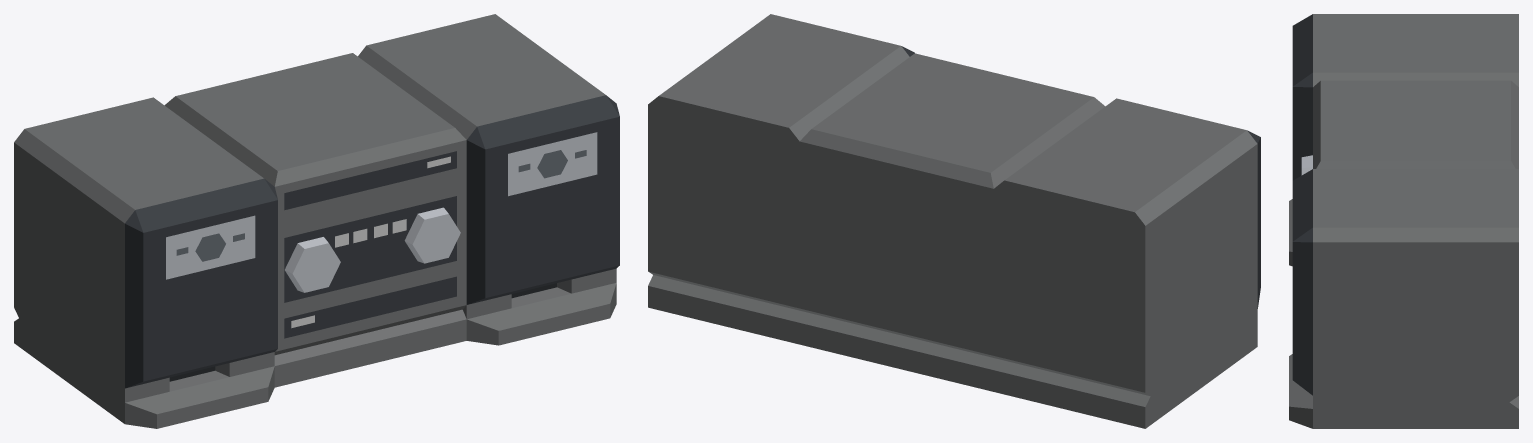
The model's file is SM_Prop_Radio_02-test.obj.
The picture shows the model from 3 angles, left to right: view 1: azimuth 30°, elevation 25°; view 2: azimuth 150°, elevation 25°; view 3: azimuth 270°, elevation 25°; orthographic projection. The views are drawn at different scales.
Visible parts, largest first — view 1: SM_Prop_Radio_02-test_Mat_SwatchOverlay_PolygonOffice_01_Metal_I, SM_Prop_Radio_02-test_M_BigRadioGlow; view 2: SM_Prop_Radio_02-test_Mat_SwatchOverlay_PolygonOffice_01_Metal_I; view 3: SM_Prop_Radio_02-test_Mat_SwatchOverlay_PolygonOffice_01_Metal_I.
Part boxes in pixels (x1,y1,x2,y2): SM_Prop_Radio_02-test_Mat_SwatchOverlay_PolygonOffice_01_Metal_I: (14,14,619,428); SM_Prop_Radio_02-test_M_BigRadioGlow: (291,156,450,328); SM_Prop_Radio_02-test_Mat_SwatchOverlay_PolygonOffice_01_Metal_I: (648,14,1260,428); SM_Prop_Radio_02-test_Mat_SwatchOverlay_PolygonOffice_01_Metal_I: (1289,14,1518,428).
Size of the model in its own units: 0.6756 by 0.2779 by 0.2943.
